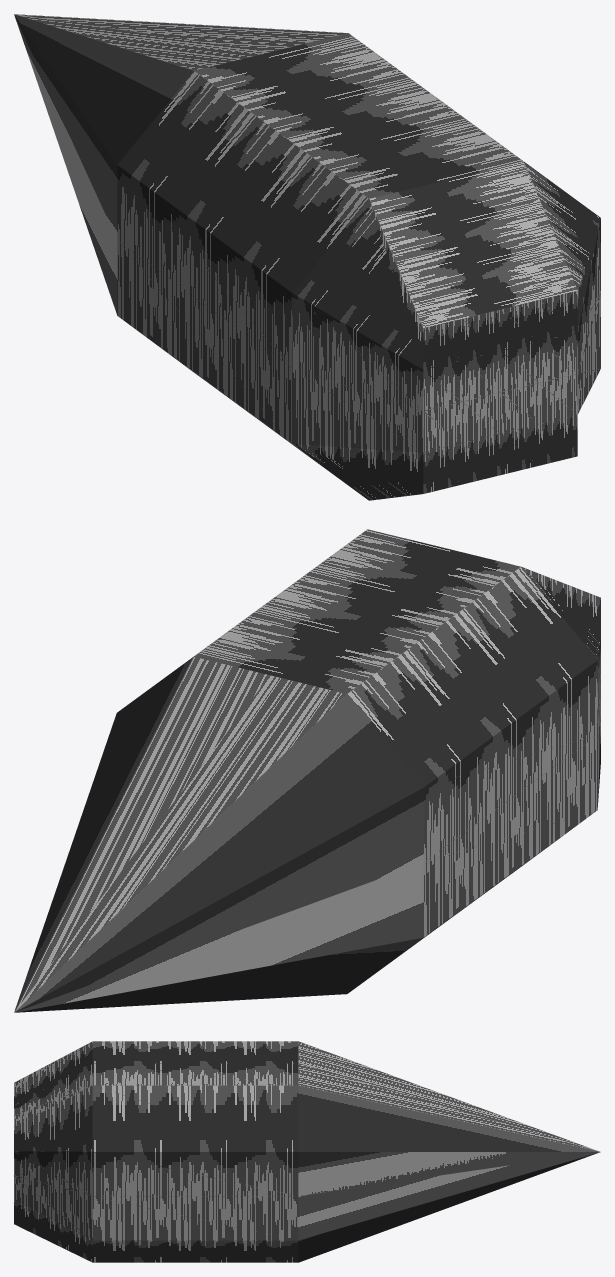
File: Badger_Shell.fbx
3 views of the same model, one above another, from view 1: azimuth 30°, elevation 25°; view 2: azimuth 150°, elevation 25°; view 3: azimuth 270°, elevation 25° (orthographic). The views are drawn at different scales.
Parts seen in each view (by area): view 1: Cube; view 2: Cube; view 3: Cube.
Boxes of the visible parts, bbox=[...] form: Cube: bbox=[14, 14, 600, 500]; Cube: bbox=[14, 529, 600, 1012]; Cube: bbox=[14, 1041, 600, 1262].
Size of the model in its own units: 69.14 by 64.61 by 194.
